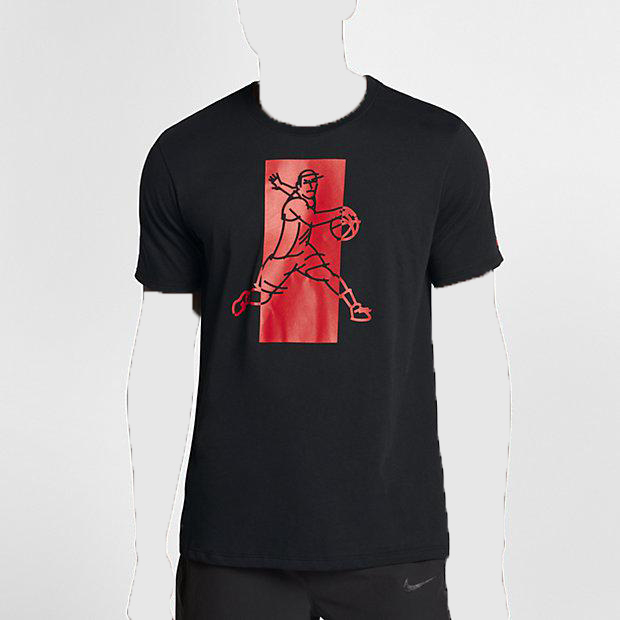teeshirt: (113, 72, 523, 562)
